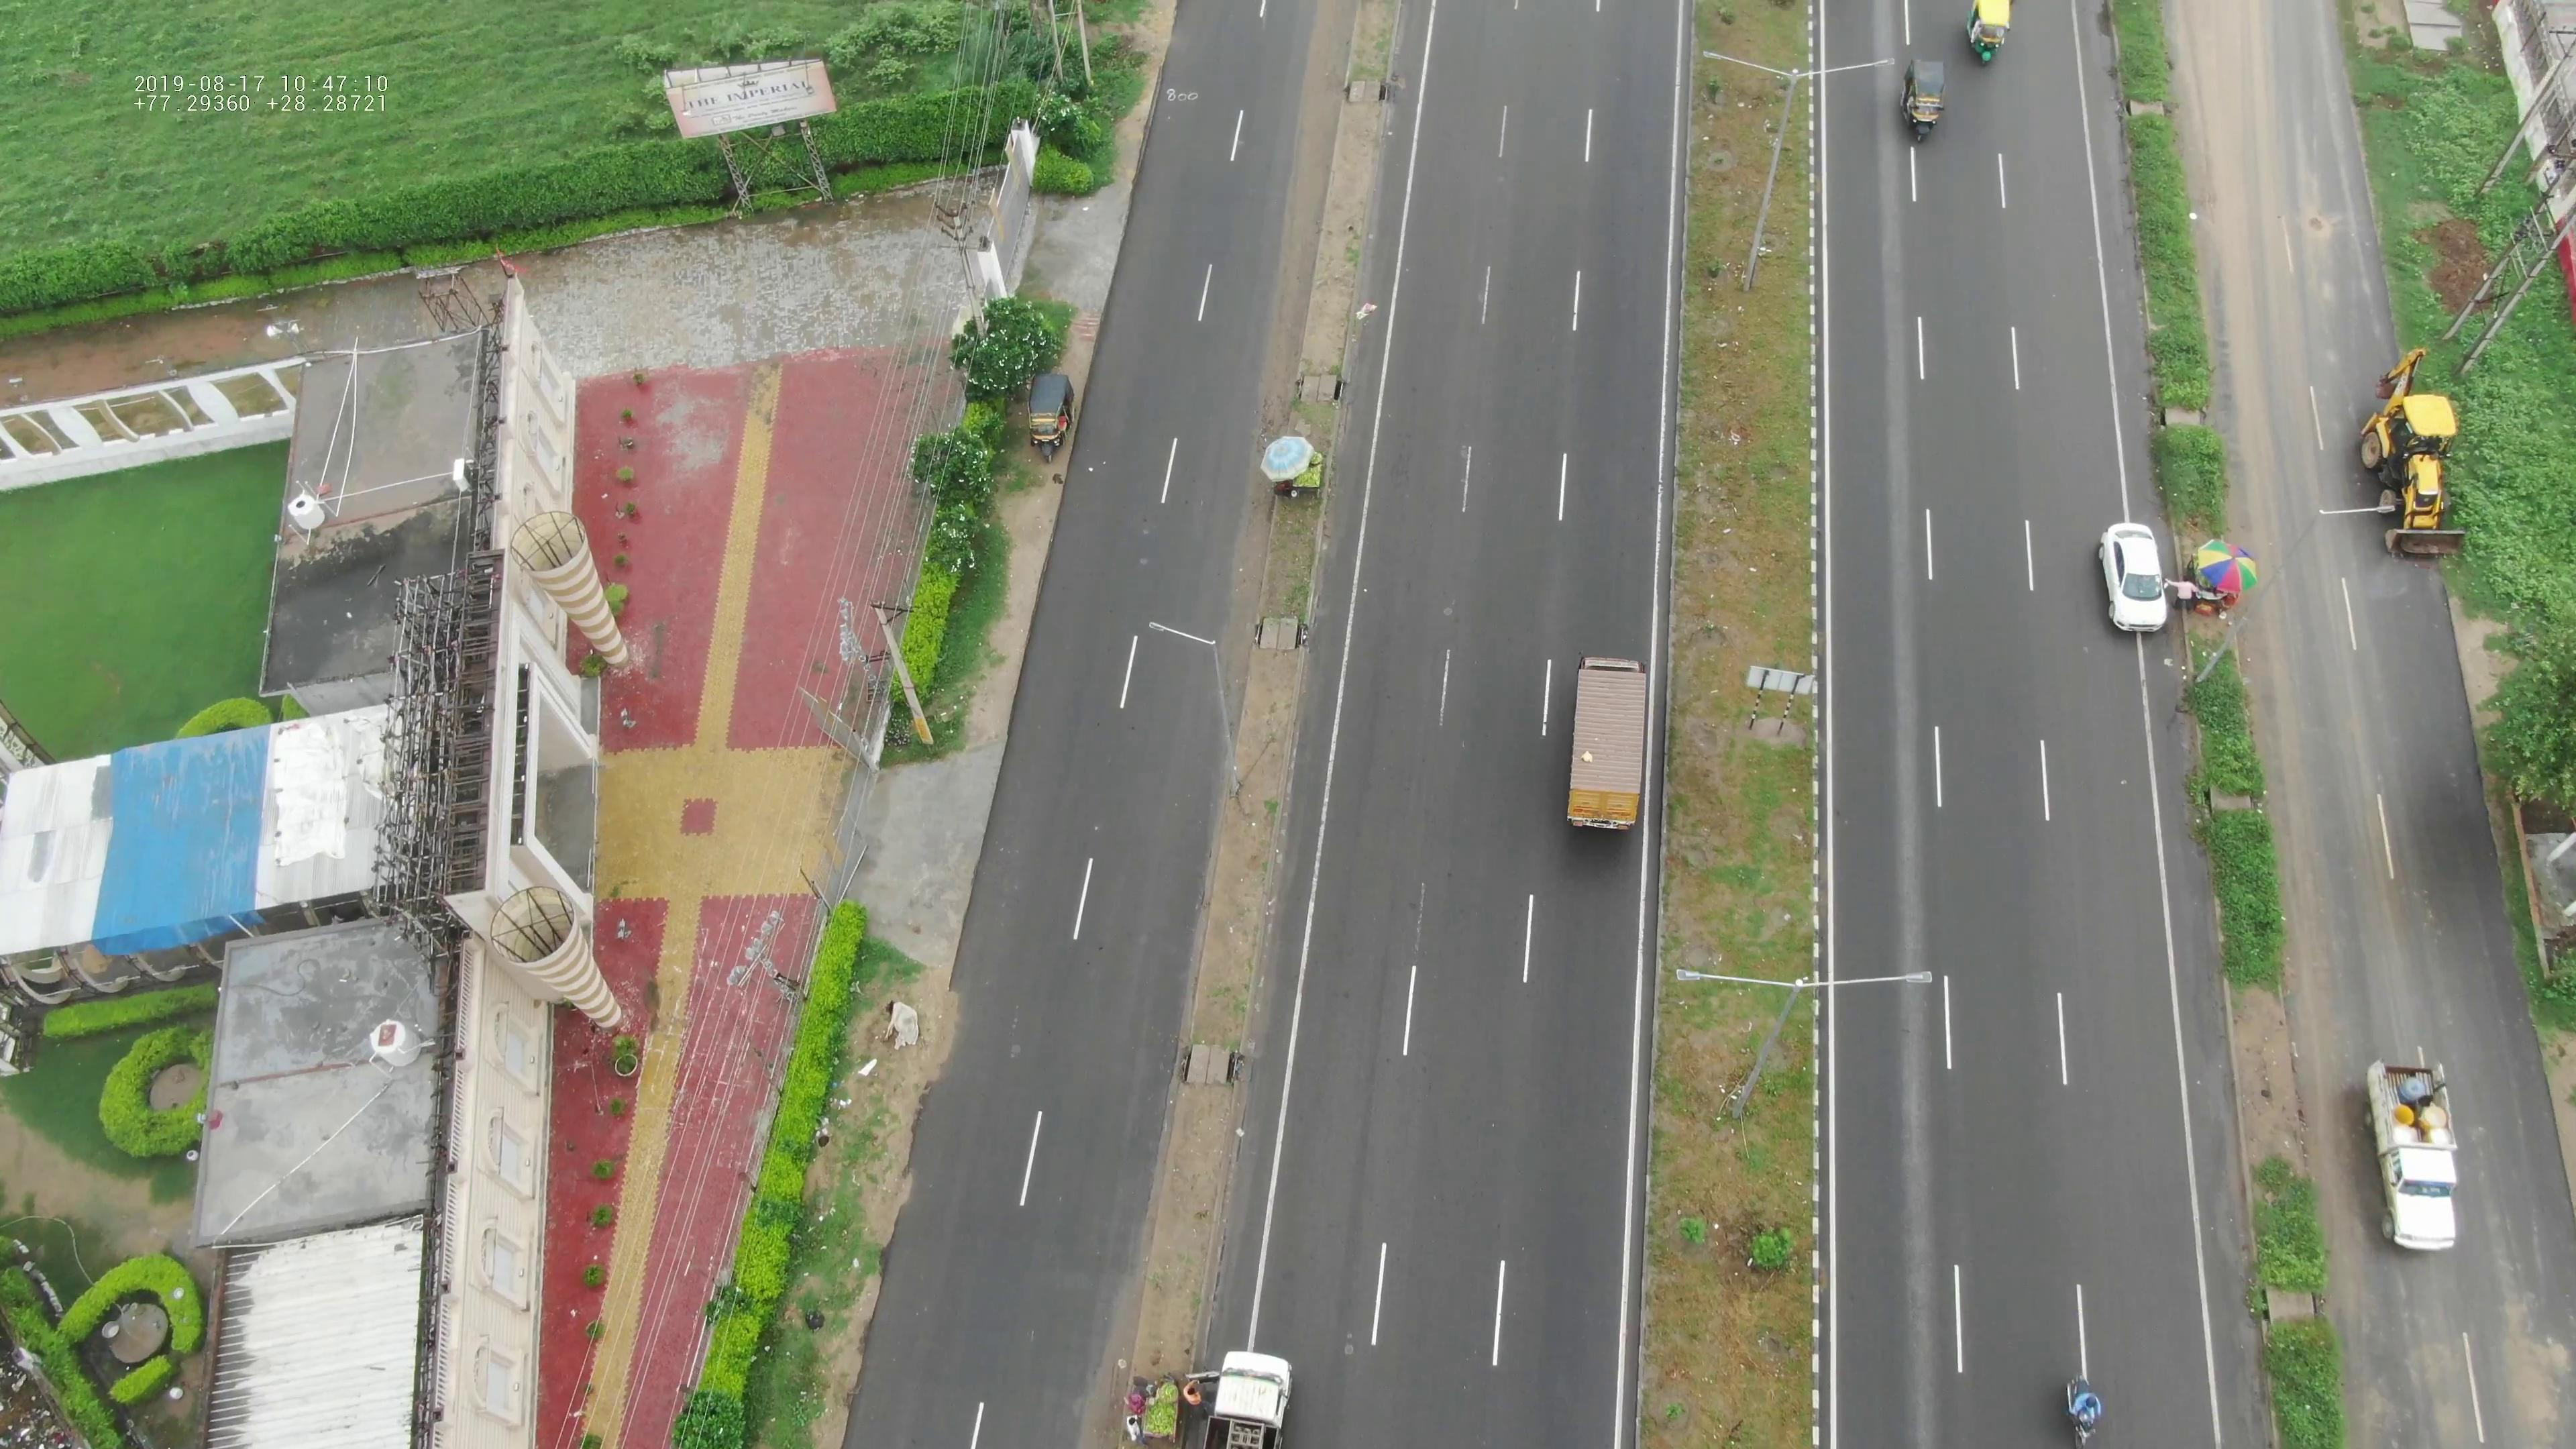Muddy_road: (2167, 7, 2321, 228)
